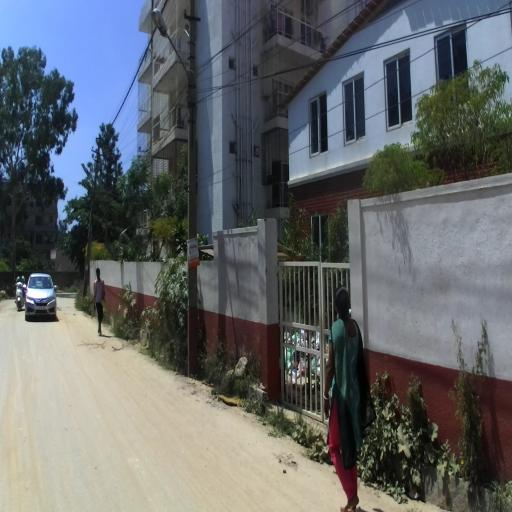street_light_0: (151, 8, 196, 110), (80, 162, 96, 201)
